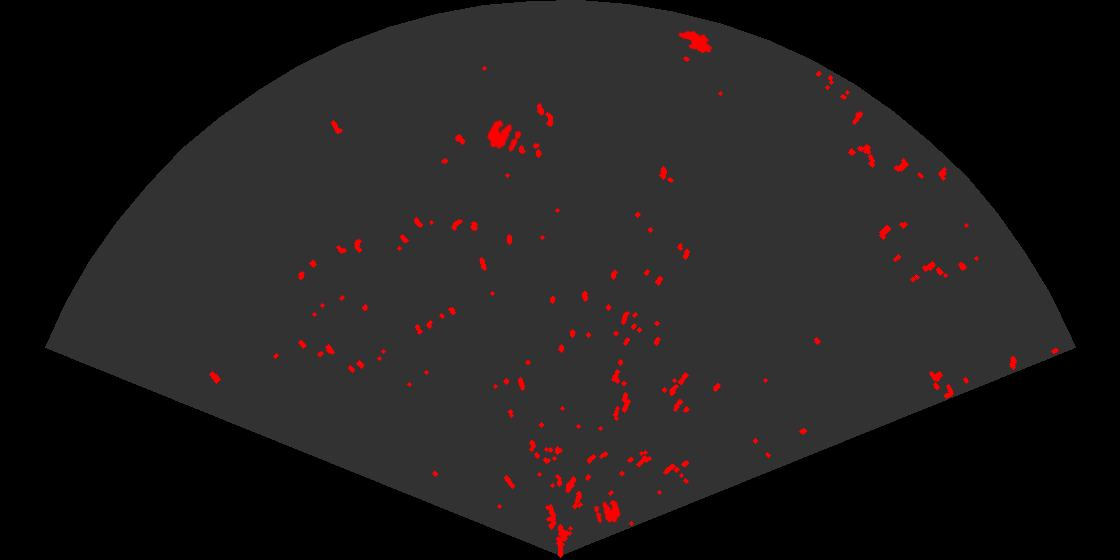AUV: (676, 29, 714, 55)
ball: (485, 118, 523, 153), (592, 498, 622, 525)
